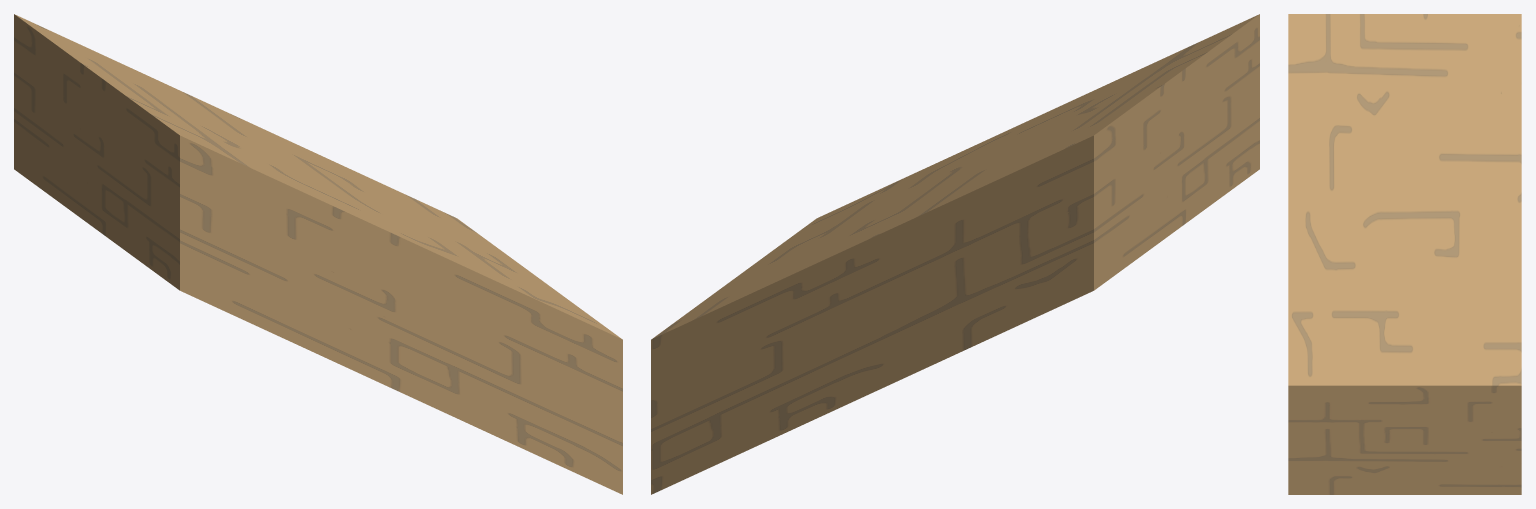
The model's file is Mesh_Ramp.glb.
3 renders of one model, left to right at view 1: azimuth 30°, elevation 25°; view 2: azimuth 150°, elevation 25°; view 3: azimuth 270°, elevation 25°, orthographic. The views are drawn at different scales.
Parts seen in each view (by area): view 1: Cube.060; view 2: Cube.060; view 3: Cube.060.
Part boxes in pixels (x1=…): Cube.060: x1=14, y1=14, x2=622, y2=494; Cube.060: x1=651, y1=14, x2=1259, y2=494; Cube.060: x1=1288, y1=14, x2=1521, y2=494.
Size of the model in its own units: 14.44 by 14.57 by 9.36.
1 material, 1 textured.
